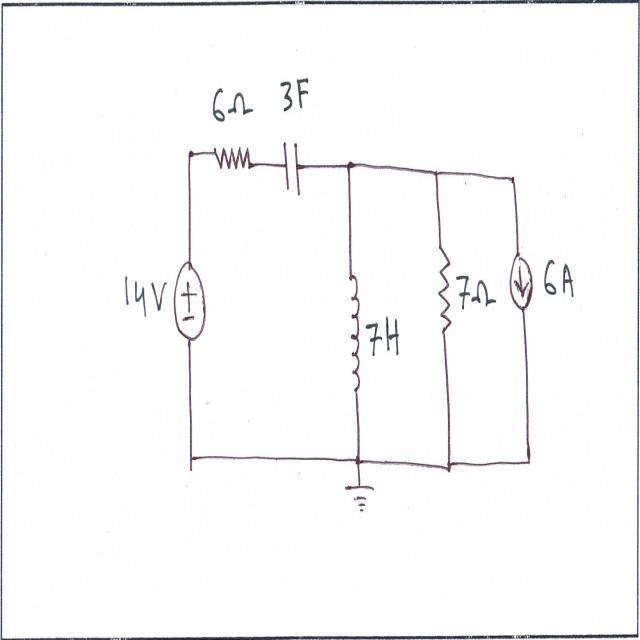capacitor: (278, 138, 308, 207)
current_source: (506, 245, 535, 326)
ground: (343, 478, 379, 518)
inductor: (347, 259, 366, 406)
resistor: (436, 237, 454, 354), (210, 143, 258, 181)
voltage_source: (172, 255, 212, 344)
